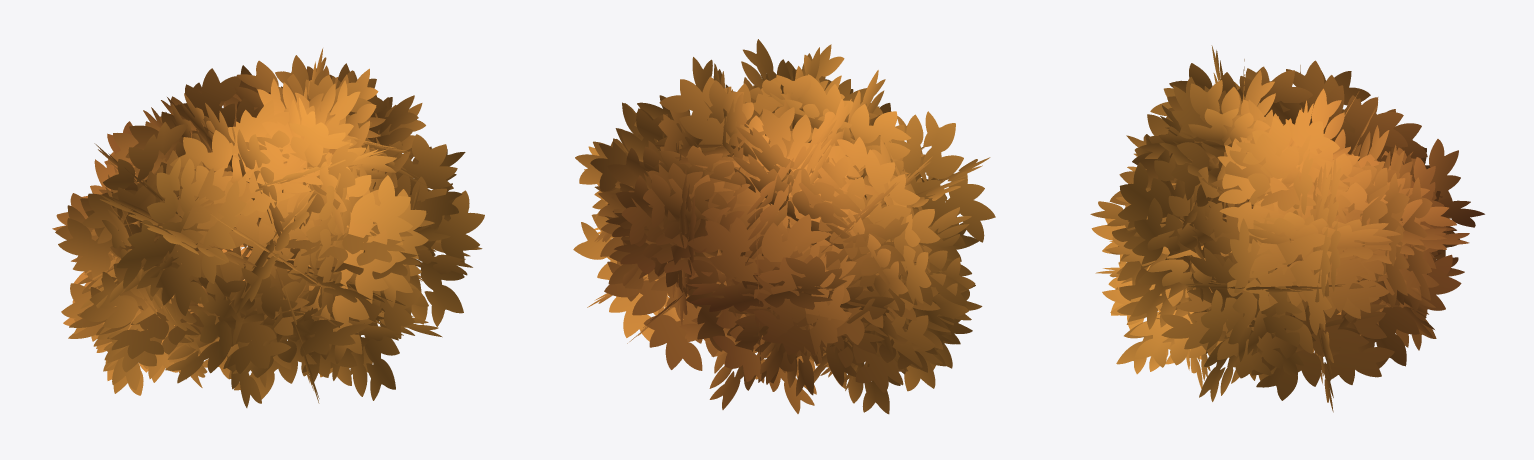
The model's file is bush01-nbb4sd92.glb.
3 views of the same model, side by side, from view 1: azimuth 30°, elevation 25°; view 2: azimuth 150°, elevation 25°; view 3: azimuth 270°, elevation 25° (orthographic).
Parts seen in each view (by area): view 1: bush01; view 2: bush01; view 3: bush01.
Boxes of the visible parts, box(x1,y1,x2,y2) form: bush01: box(52, 48, 484, 407); bush01: box(573, 39, 995, 414); bush01: box(1090, 45, 1484, 412).
Bounding box in the file's own units: 1.59 × 1.23 × 1.48.
1 material, 1 textured.
